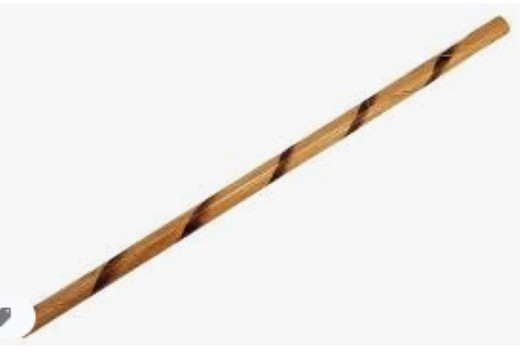baston_e: (74, 16, 489, 314)
baston_v: (15, 289, 65, 347), (487, 7, 513, 48)
